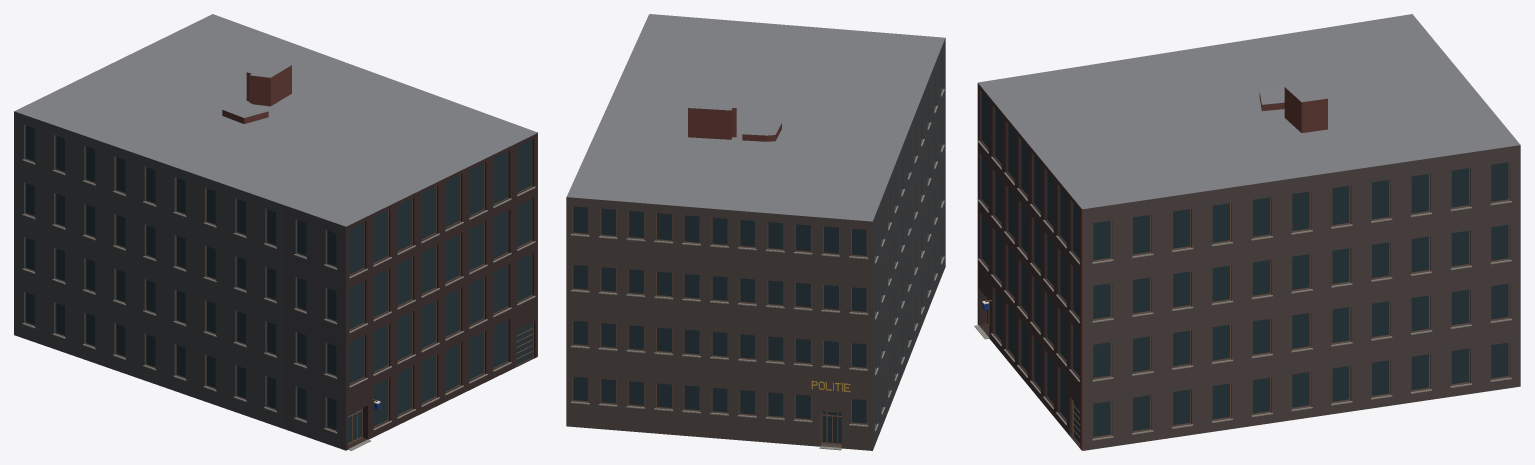
Rendered from recipe-large-politie-oost-watergraafsmeer.glb.
3 views of the same model, side by side, from view 1: azimuth 30°, elevation 25°; view 2: azimuth 150°, elevation 25°; view 3: azimuth 270°, elevation 25° (orthographic). The views are drawn at different scales.
Visible parts, largest first — view 1: politie-oost-watergraafsmeer; view 2: politie-oost-watergraafsmeer; view 3: politie-oost-watergraafsmeer.
Boxes of the visible parts, x1,y1,x2,y2 form: politie-oost-watergraafsmeer: [14, 14, 537, 450]; politie-oost-watergraafsmeer: [566, 14, 945, 450]; politie-oost-watergraafsmeer: [974, 14, 1520, 450].
Size of the model in its own units: 34.07 by 22.16 by 40.27.
